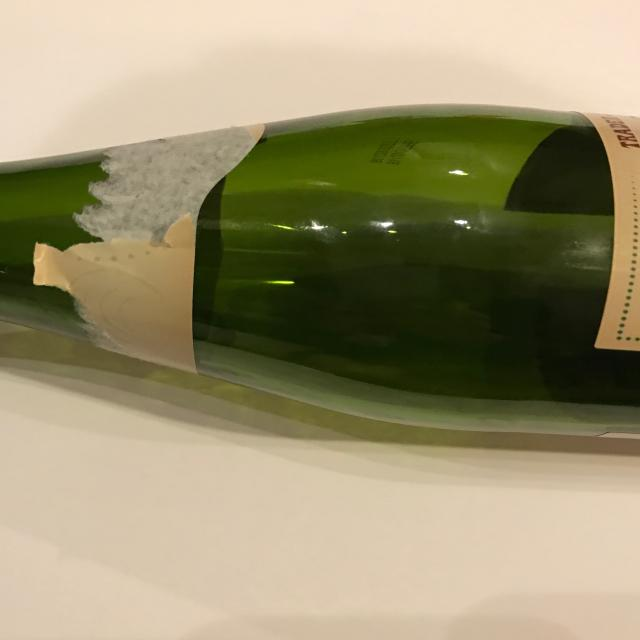glass: (1, 103, 639, 440)
